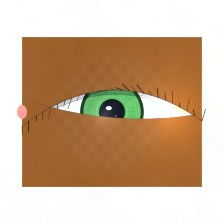pinguecula_lesion: (166, 95, 197, 120)
